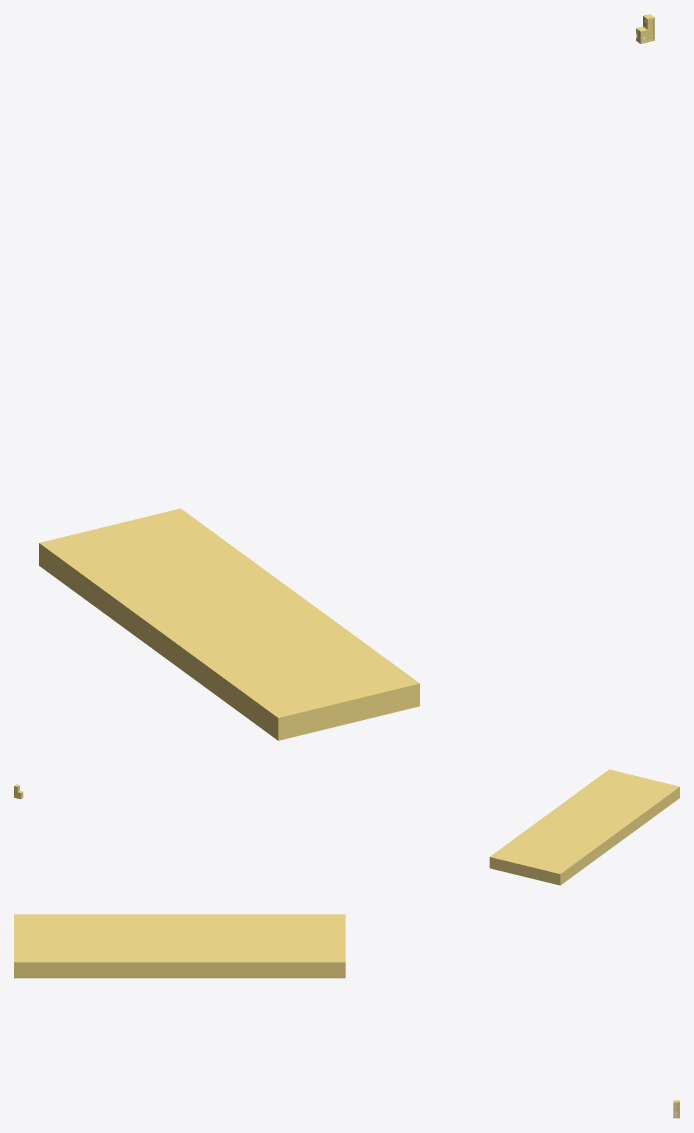
File: shoppingCentre.fbx
3 renders of one model, top to bottom at view 1: azimuth 30°, elevation 25°; view 2: azimuth 150°, elevation 25°; view 3: azimuth 270°, elevation 25°, orthographic. The views are drawn at different scales.
Parts seen in each view (by area): view 1: shoppingOverhang; view 2: shoppingOverhang; view 3: shoppingOverhang.
Boxes of the visible parts, x1,y1,x2,y2 form: shoppingOverhang: (39, 508, 419, 740); shoppingOverhang: (489, 769, 679, 885); shoppingOverhang: (14, 914, 345, 978).
Bounding box in the file's own units: 108 × 20.38 × 106.
